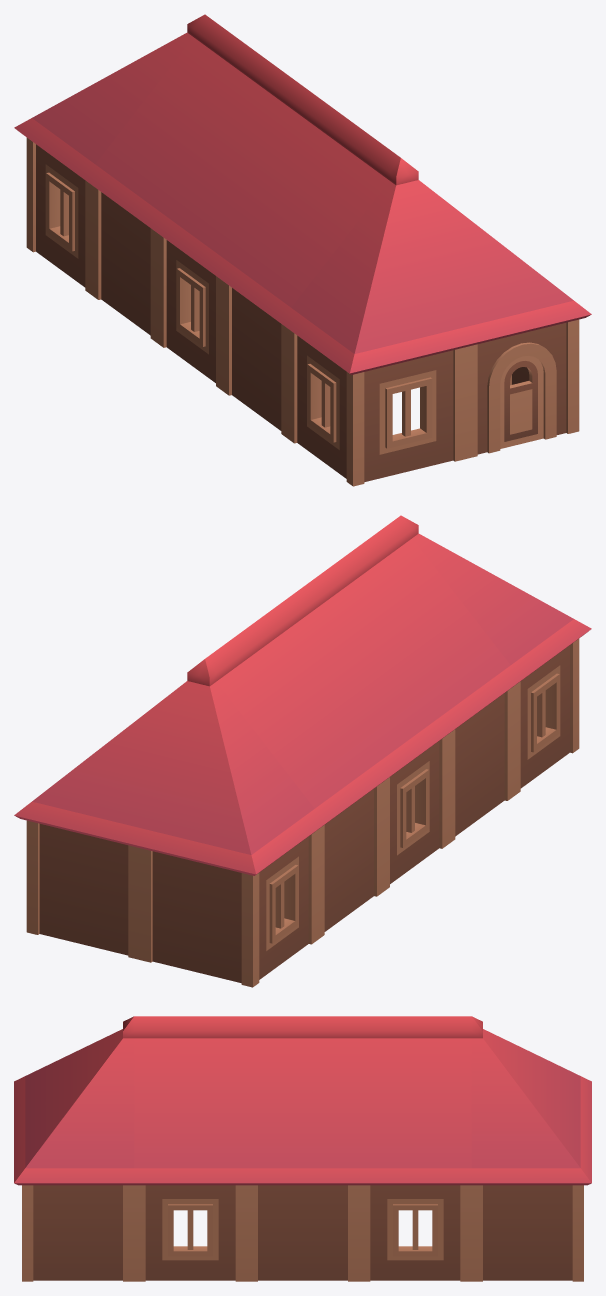
File: longhouse.glb
3 renders of one model, top to bottom at view 1: azimuth 30°, elevation 25°; view 2: azimuth 150°, elevation 25°; view 3: azimuth 270°, elevation 25°, orthographic. The views are drawn at different scales.
Visible parts, largest first — view 1: longhouse; view 2: longhouse; view 3: longhouse.
Boxes of the visible parts, x1,y1,x2,y2 form: longhouse: (14, 14, 591, 486); longhouse: (14, 515, 591, 987); longhouse: (14, 1016, 591, 1281).
Size of the model in its own units: 6.42 by 6.42 by 15.42.
Materials: 24 (24 with a texture image).
